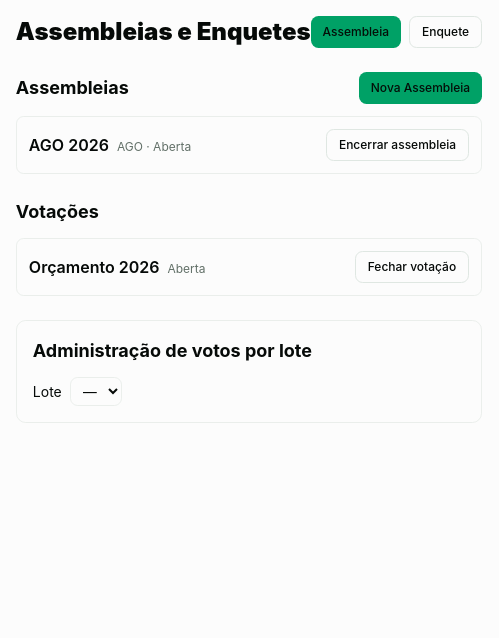
Test case: AssemblyVotingPage › shows the ballot and tally panels once a vote is selected
Click the button "Orçamento 2026Aberta".
click(117, 267)  # box [29,255,206,279]
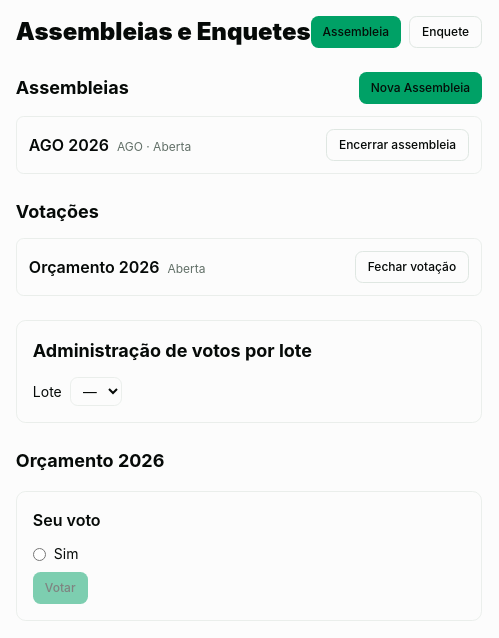
Expected: the heading "Seu voto" is shown, [33,510,101,530]
